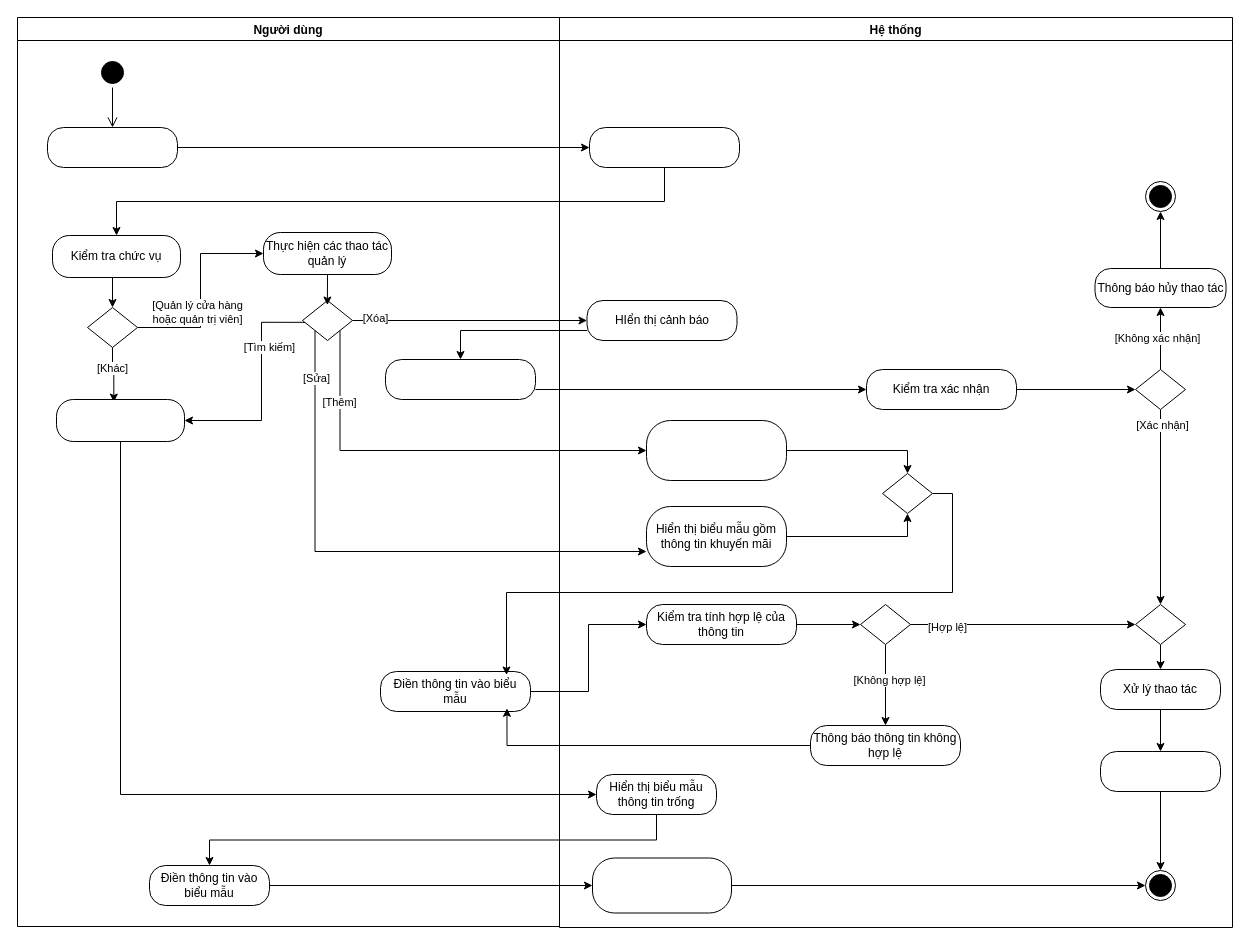
This 1250x945 diagram has some shape labels left out. Here are the shapes that lost their labels. From the top down, the box of each, then its label:
(46, 126, 178, 168): Chọn chức năng Quản lý khuyến mãi
(588, 126, 740, 168): Hiển thị danh sách khuyến mãi
(384, 358, 536, 400): Xác nhận cảnh báo
(56, 398, 184, 442): Tìm kiếm khuyến mãi
(646, 420, 786, 480): Hiển thị biểu mẫu trống cho thông tin khuyến mãi
(1100, 750, 1220, 792): Thông báo thành công
(592, 857, 732, 913): Hiển thị danh sách khuyến mãi dựa trên thông tin tìm kiếm
